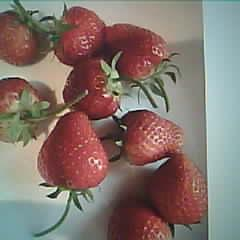straw-ripe: (38, 110, 108, 189), (148, 155, 208, 223), (103, 24, 169, 81), (63, 58, 121, 118), (121, 112, 183, 165)
